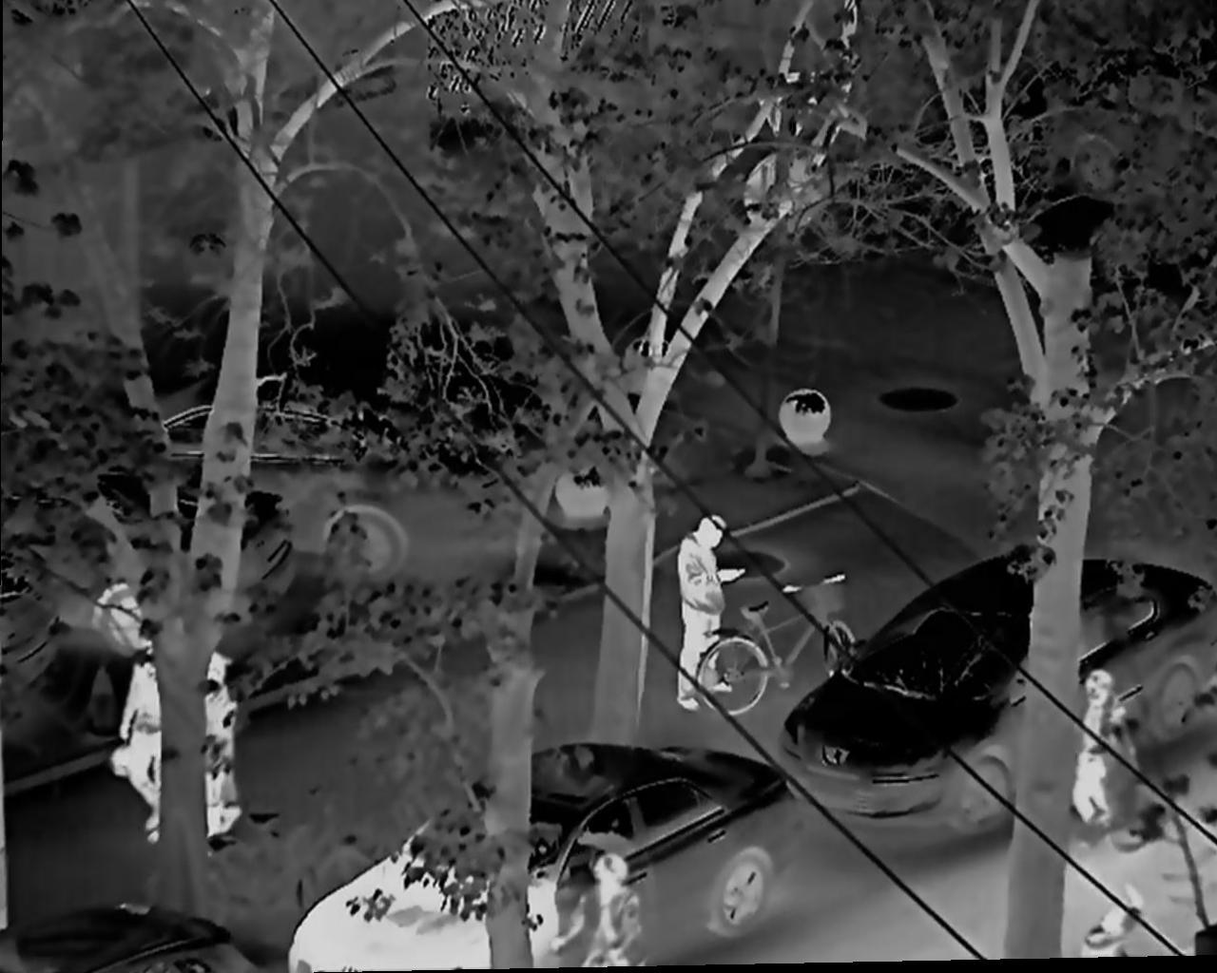person: (674, 512, 747, 715), (547, 850, 642, 973), (112, 645, 163, 850), (1081, 669, 1140, 838), (206, 654, 242, 832)
